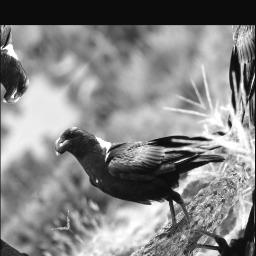Crow: (44, 53, 244, 256)
